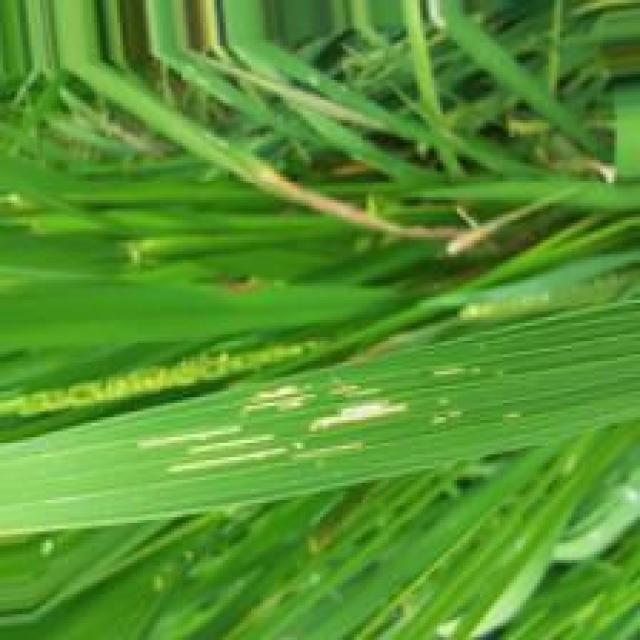Rice_Hispa: (308, 397, 402, 436), (249, 381, 298, 412)
